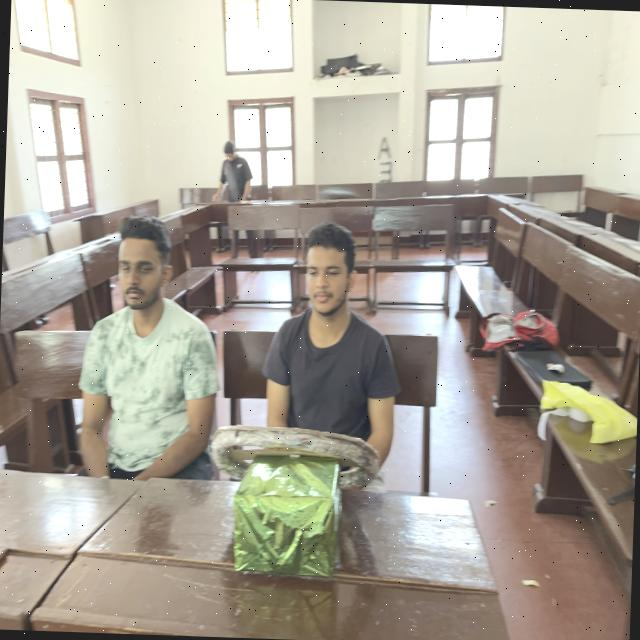Helmet: (70, 290, 226, 506), (260, 303, 402, 502)
